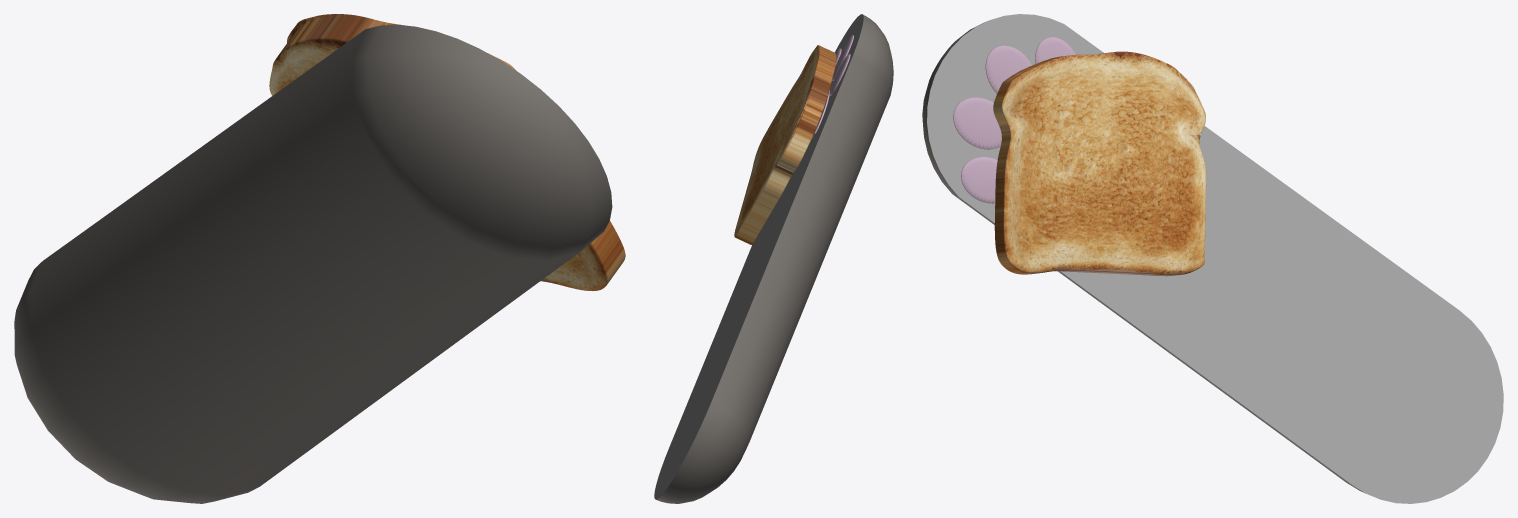
File: cat_paw_toast.fbx
3 views of the same model, side by side, from view 1: azimuth 30°, elevation 25°; view 2: azimuth 150°, elevation 25°; view 3: azimuth 270°, elevation 25° (orthographic). The views are drawn at different scales.
Visible parts, largest first — view 1: cat_paw_toast_mesh; view 2: cat_paw_toast_mesh; view 3: cat_paw_toast_mesh.
Boxes of the visible parts, x1,y1,x2,y2 form: cat_paw_toast_mesh: (14, 14, 625, 503); cat_paw_toast_mesh: (654, 14, 893, 503); cat_paw_toast_mesh: (922, 14, 1503, 503).
Bounding box in the file's own units: 29.19 × 69.99 × 79.54.
